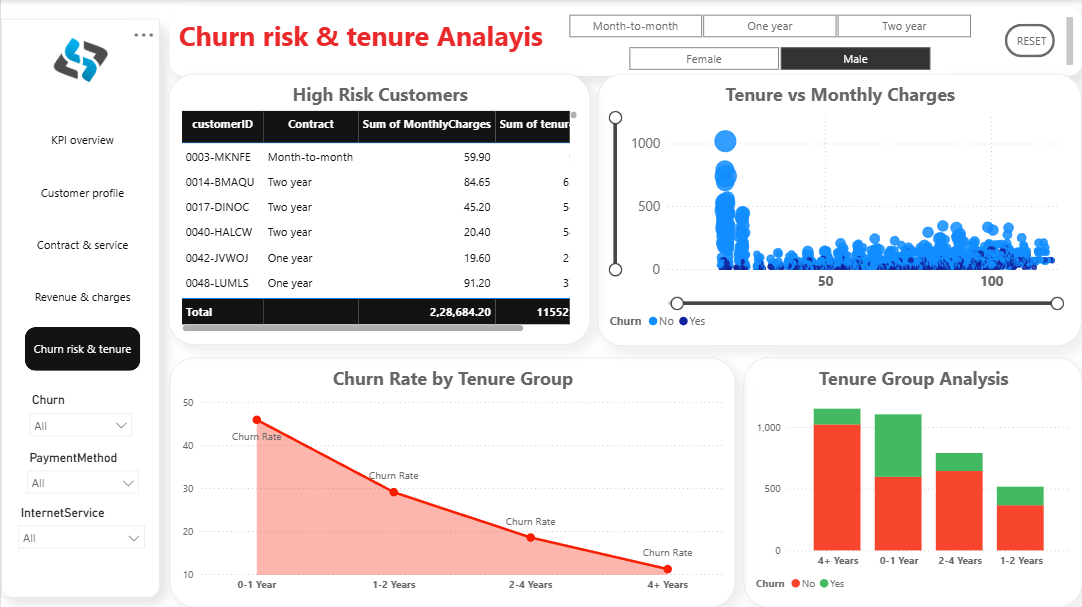

The dashboard page shown, as its layout file describes it:
{"tool":"powerbi","page":{"name":"Churn risk & tenure ","canvas":[1280,720],"ordinal":4},"visuals":[{"type":"textbox","box":[0,22.2,188,685.3],"z":0},{"type":"textbox","box":[199.5,8.7,1080.7,80.6],"z":1000},{"type":"textbox","box":[199.8,105.1,1061.2,131.7],"z":2000},{"type":"image","box":[35.5,28.1,116.9,79.9],"z":3000},{"type":"pageNavigator","box":[28.8,138.6,137,303],"z":4000},{"type":"columnChart","title":"Tenure Group Analysis","fields":{"Category":["Telco_Customer_Churn_Dataset  (2).Tenure Group"],"Y":["CountNonNull(Telco_Customer_Churn_Dataset  (2).customerID)"],"Series":["Telco_Customer_Churn_Dataset  (2).Churn"]},"box":[878.7,423.9,401.6,296.2],"z":5000},{"type":"lineChart","title":"Churn Rate by Tenure Group","fields":{"Category":["Telco_Customer_Churn_Dataset  (2).Tenure Group"],"Y":["Telco_Customer_Churn_Dataset  (2).Churn Rate"]},"box":[199.5,423.9,669.3,296.2],"z":6000},{"type":"scatterChart","title":"Tenure vs Monthly Charges","fields":{"X":["Telco_Customer_Churn_Dataset  (2).MonthlyCharges"],"Y":["Sum(Telco_Customer_Churn_Dataset  (2).tenure)"],"Series":["Telco_Customer_Churn_Dataset  (2).Churn"],"Size":["CountNonNull(Telco_Customer_Churn_Dataset  (2).customerID)"]},"box":[706.4,88,573.8,322.2],"z":7000},{"type":"tableEx","title":"High Risk Customers","fields":{"Values":["Telco_Customer_Churn_Dataset  (2).customerID","Telco_Customer_Churn_Dataset  (2).Contract","Sum(Telco_Customer_Churn_Dataset  (2).MonthlyCharges)","Sum(Telco_Customer_Churn_Dataset  (2).tenure)","Telco_Customer_Churn_Dataset  (2).Churn"]},"box":[198.3,88,499.5,321],"z":8000},{"type":"slicer","fields":{"Values":["Telco_Customer_Churn_Dataset  (2).gender"]},"box":[717.6,49.6,406.5,38.4],"z":9000},{"type":"slicer","fields":{"Values":["Telco_Customer_Churn_Dataset  (2).Contract"]},"box":[646.9,9.9,525.5,40.9],"z":10000},{"type":"slicer","fields":{"Values":["Telco_Customer_Churn_Dataset  (2).Churn"]},"box":[23.5,461,141.3,57],"z":11000},{"type":"slicer","fields":{"Values":["Telco_Customer_Churn_Dataset  (2).PaymentMethod"]},"box":[21.1,528,152.4,65.7],"z":12000},{"type":"slicer","fields":{"Values":["Telco_Customer_Churn_Dataset  (2).InternetService"]},"box":[9.9,593.7,169.8,70.6],"z":13000},{"type":"actionButton","box":[1188.5,28.5,59.5,39.7],"z":14000}]}

Visuals, with their boxes on the page's 1280x720 design canvas (x1, y1, x2, y2). These are canvas units, not pixel positions in the 1082x607 screenshot, which may show the page scaled, cropped or inside an application window:
textbox: <bbox>0, 22, 188, 708</bbox>
textbox: <bbox>200, 9, 1280, 89</bbox>
textbox: <bbox>200, 105, 1261, 237</bbox>
image: <bbox>36, 28, 152, 108</bbox>
pageNavigator: <bbox>29, 139, 166, 442</bbox>
"Tenure Group Analysis" columnChart: <bbox>879, 424, 1280, 720</bbox>
"Churn Rate by Tenure Group" lineChart: <bbox>200, 424, 869, 720</bbox>
"Tenure vs Monthly Charges" scatterChart: <bbox>706, 88, 1280, 410</bbox>
"High Risk Customers" tableEx: <bbox>198, 88, 698, 409</bbox>
slicer - Telco_Customer_Churn_Dataset  (2).gender: <bbox>718, 50, 1124, 88</bbox>
slicer - Telco_Customer_Churn_Dataset  (2).Contract: <bbox>647, 10, 1172, 51</bbox>
slicer - Telco_Customer_Churn_Dataset  (2).Churn: <bbox>24, 461, 165, 518</bbox>
slicer - Telco_Customer_Churn_Dataset  (2).PaymentMethod: <bbox>21, 528, 174, 594</bbox>
slicer - Telco_Customer_Churn_Dataset  (2).InternetService: <bbox>10, 594, 180, 664</bbox>
actionButton: <bbox>1188, 28, 1248, 68</bbox>
